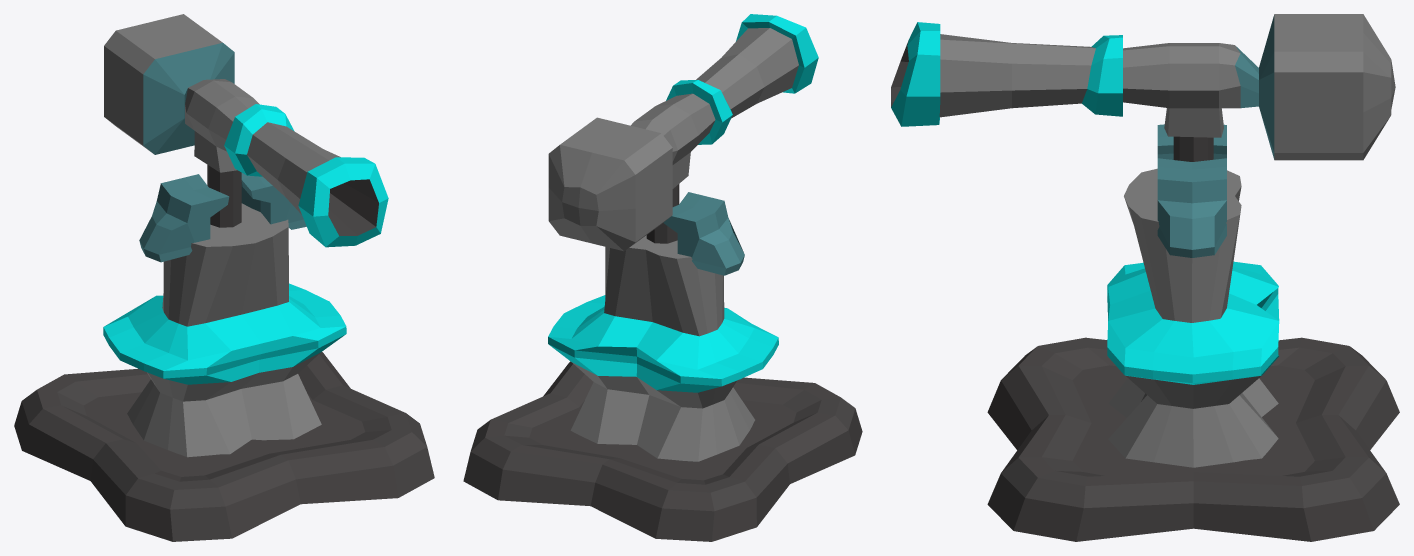
The model's file is Trap_flameThrower.fbx.
3 views of the same model, side by side, from view 1: azimuth 30°, elevation 25°; view 2: azimuth 150°, elevation 25°; view 3: azimuth 270°, elevation 25° (orthographic). The views are drawn at different scales.
Visible parts, largest first — view 1: Trap_flameThrower_base, Trap_flameThrower_leg, Trap_flameThrower_head, Trap_flameThrower_rightClamp, Trap_flameThrower_leftClamp, Trap_flameThrower_neck; view 2: Trap_flameThrower_base, Trap_flameThrower_leg, Trap_flameThrower_head, Trap_flameThrower_rightClamp, Trap_flameThrower_neck; view 3: Trap_flameThrower_base, Trap_flameThrower_head, Trap_flameThrower_leg, Trap_flameThrower_leftClamp, Trap_flameThrower_neck, Trap_flameThrower_rightClamp.
Boxes of the visible parts, box(x1,y1,x2,y2) form: Trap_flameThrower_base: box(14, 352, 434, 541); Trap_flameThrower_leg: box(103, 203, 346, 457); Trap_flameThrower_head: box(104, 14, 388, 247); Trap_flameThrower_rightClamp: box(139, 174, 229, 262); Trap_flameThrower_leftClamp: box(241, 173, 306, 229); Trap_flameThrower_neck: box(207, 165, 241, 227); Trap_flameThrower_base: box(463, 361, 862, 541); Trap_flameThrower_leg: box(548, 235, 778, 461); Trap_flameThrower_head: box(548, 14, 818, 251); Trap_flameThrower_rightClamp: box(663, 192, 744, 275); Trap_flameThrower_neck: box(646, 184, 679, 243); Trap_flameThrower_base: box(987, 337, 1399, 541); Trap_flameThrower_head: box(891, 14, 1395, 160); Trap_flameThrower_leg: box(1107, 168, 1279, 467); Trap_flameThrower_leftClamp: box(1157, 158, 1226, 257); Trap_flameThrower_neck: box(1173, 136, 1213, 161); Trap_flameThrower_rightClamp: box(1157, 124, 1226, 159).
Bounding box in the file's own units: 1.02 × 1.22 × 1.32.
